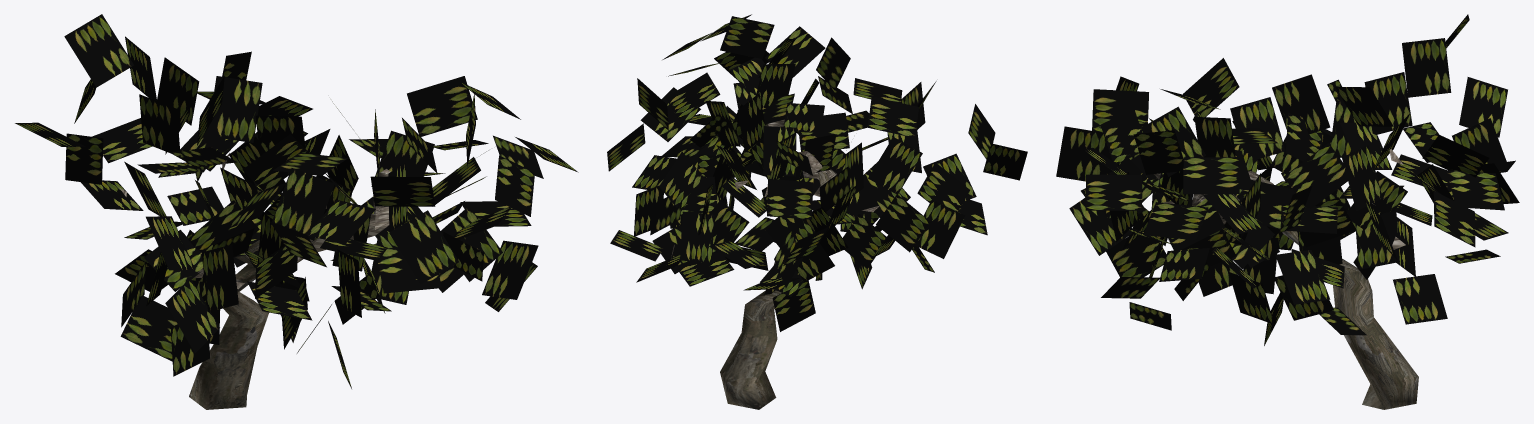
Rendered from tree-broad-04-lod2.glb.
The picture shows the model from 3 angles, left to right: view 1: azimuth 30°, elevation 25°; view 2: azimuth 150°, elevation 25°; view 3: azimuth 270°, elevation 25°; orthographic projection. The views are drawn at different scales.
Visible parts, largest first — view 1: tree-broad-04_MATERIAL_BATCH; view 2: tree-broad-04_MATERIAL_BATCH; view 3: tree-broad-04_MATERIAL_BATCH.
Boxes of the visible parts, x1,y1,x2,y2 form: tree-broad-04_MATERIAL_BATCH: (15, 14, 578, 409); tree-broad-04_MATERIAL_BATCH: (607, 14, 1027, 409); tree-broad-04_MATERIAL_BATCH: (1056, 14, 1519, 409).
Bounding box in the file's own units: 13.28 × 11 × 13.38.
3 materials, 3 textured.
